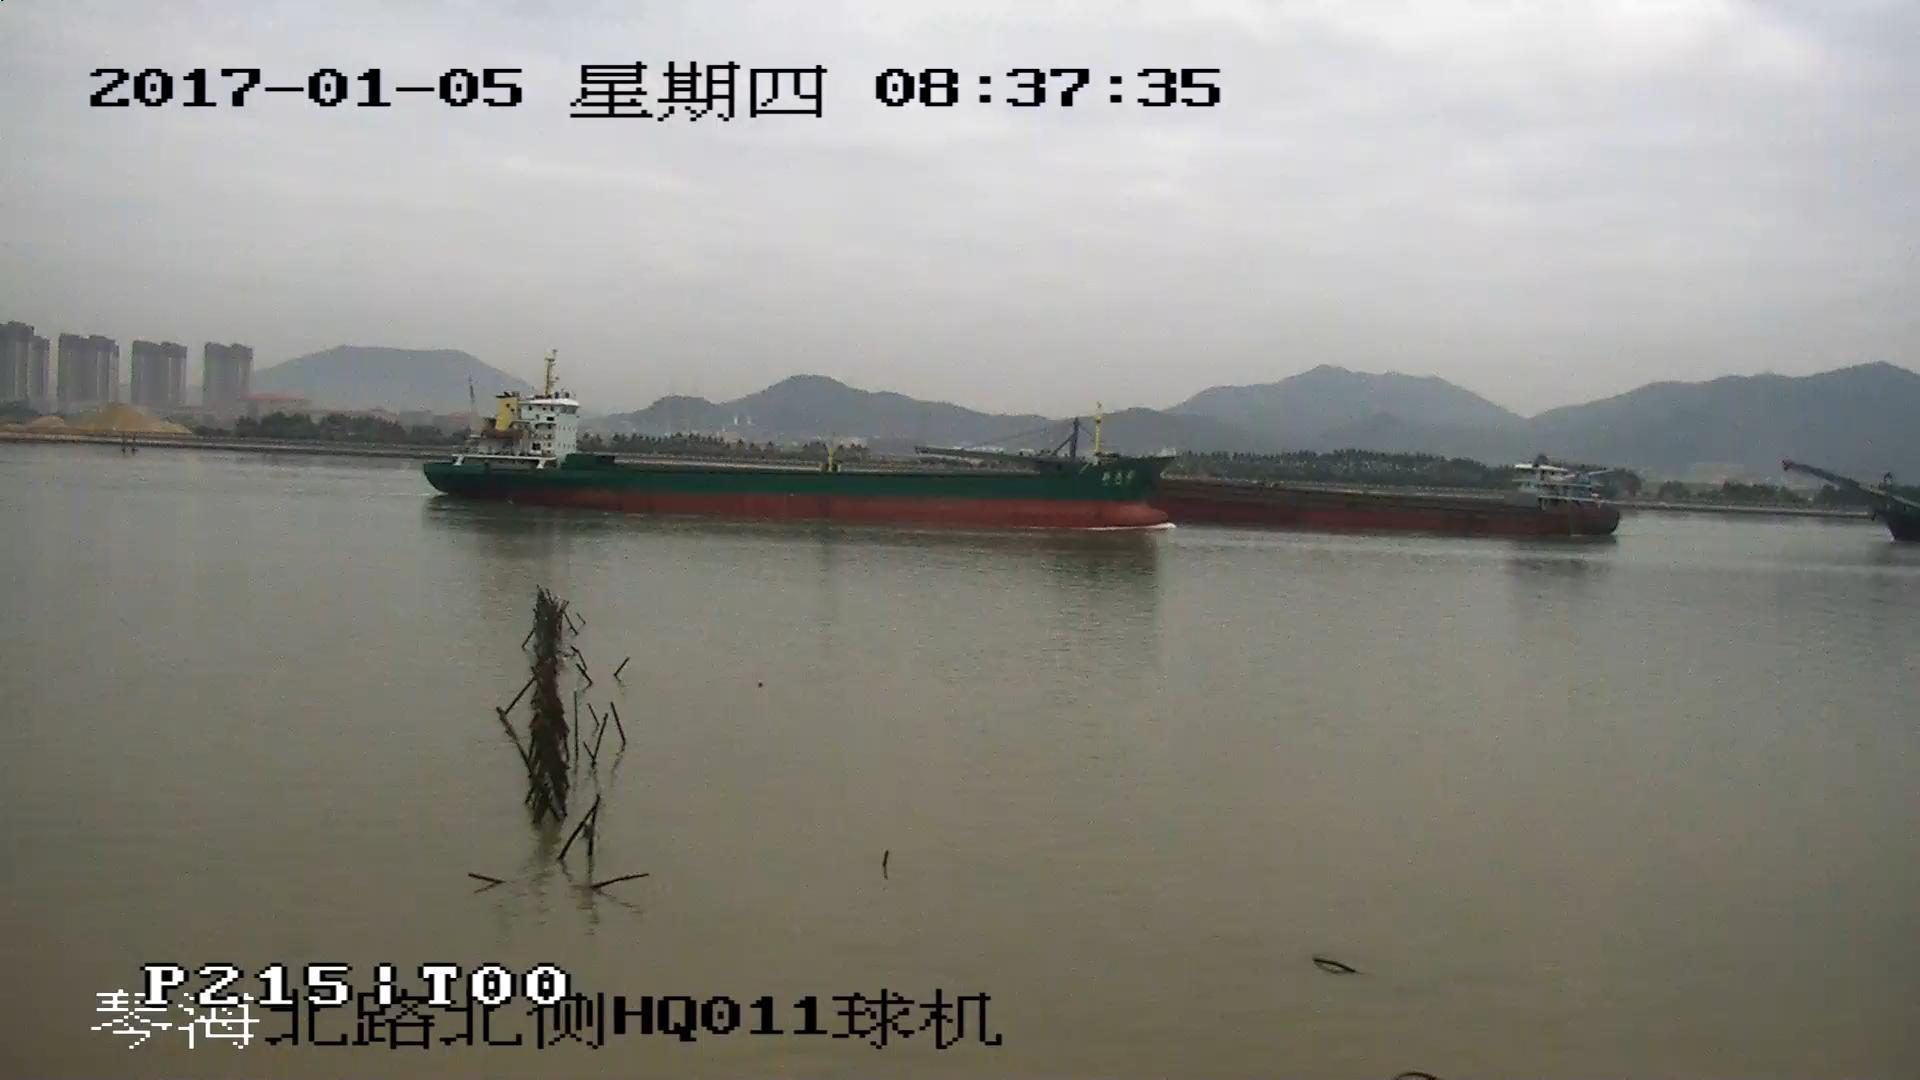Ship: (426, 353, 1174, 531), (1183, 460, 1617, 535)
